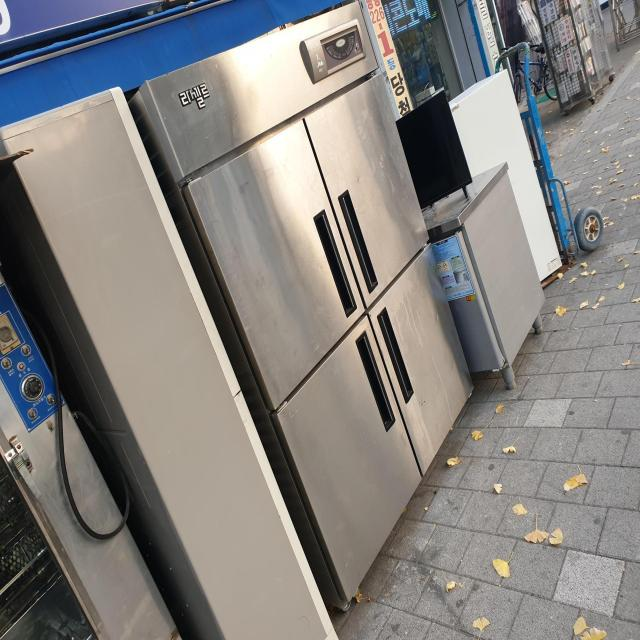refrigerator: (125, 0, 474, 614)
